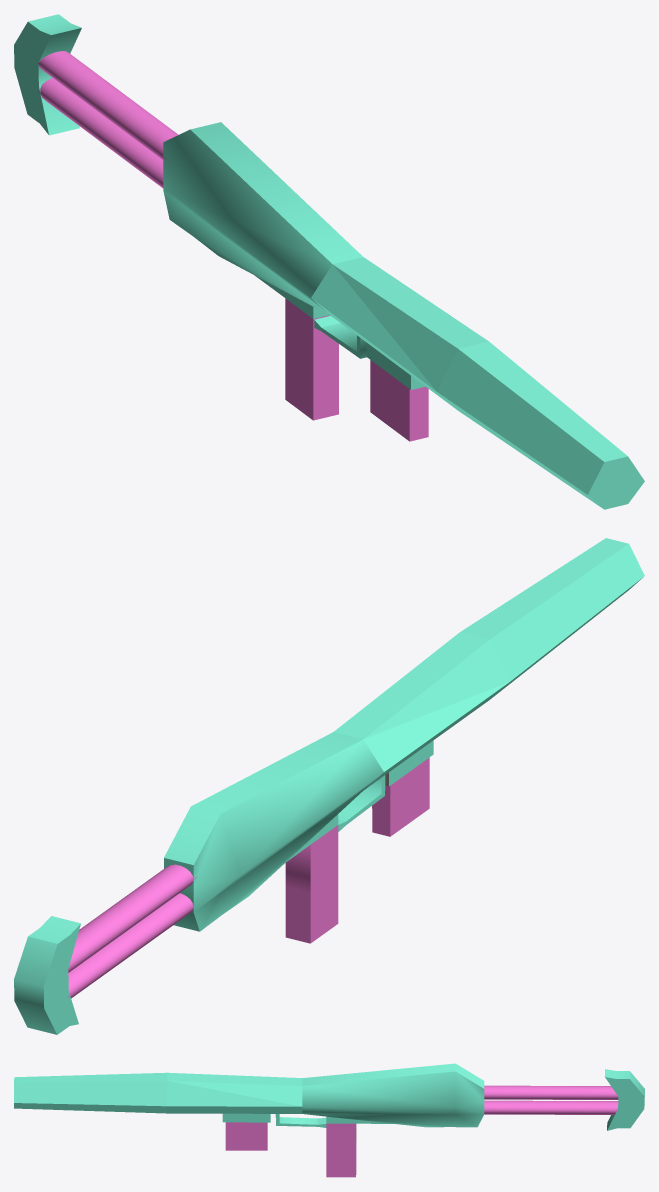
The model's file is PistoletClassiqueDeBase.FBX.
The picture shows the model from 3 angles, top to bottom: view 1: azimuth 30°, elevation 25°; view 2: azimuth 150°, elevation 25°; view 3: azimuth 270°, elevation 25°; orthographic projection. The views are drawn at different scales.
Visible parts, largest first — view 1: Box007; view 2: Box007; view 3: Box007.
Boxes of the visible parts, x1,y1,x2,y2 form: Box007: (14,14,644,509); Box007: (14,538,644,1034); Box007: (14,1063,644,1177).
Size of the model in its own units: 57.81 by 143 by 766.
